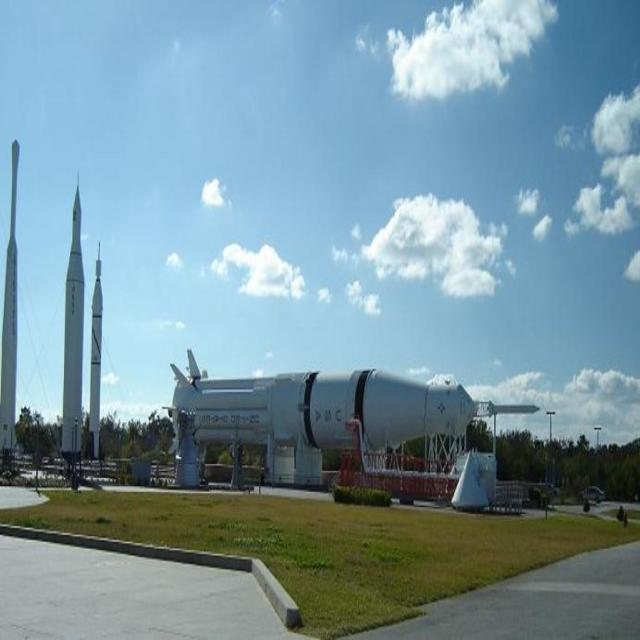missile: (60, 176, 90, 452), (0, 141, 25, 446), (90, 240, 107, 459)
